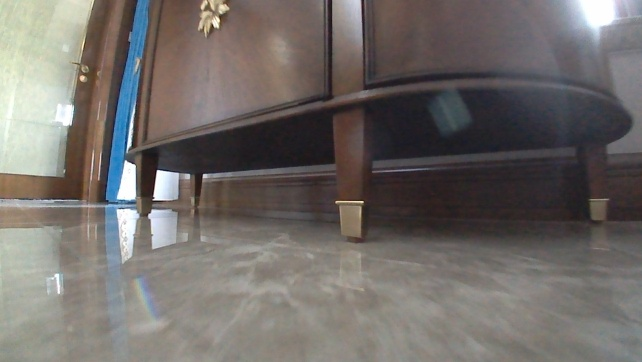door_anno: (0, 0, 138, 203)
